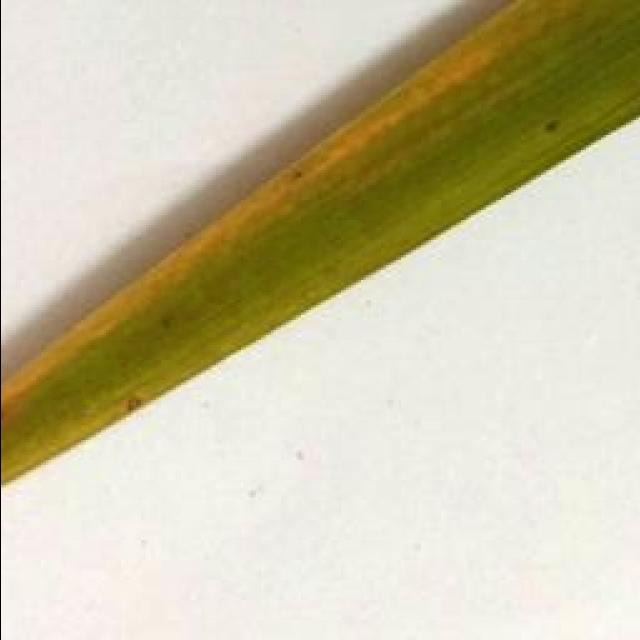Unhealthy: (0, 0, 593, 422), (122, 393, 145, 416), (541, 117, 562, 135)
